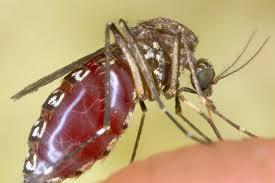Insects: (10, 12, 272, 183)
